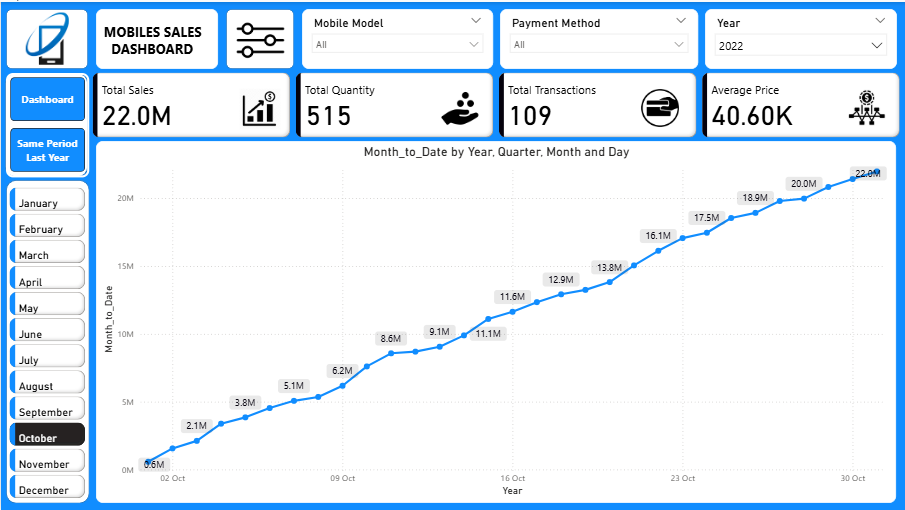

This screenshot's page, from the dashboard's own definition file:
{"tool":"powerbi","page":{"name":"MTD Report","canvas":[1280,720],"ordinal":1},"visuals":[{"type":"shape","box":[7.1,9.9,116.2,85],"z":0},{"type":"shape","box":[5.7,100.6,117.6,147.4],"z":1000},{"type":"shape","box":[6.7,251.7,118.3,458.3],"z":2000},{"type":"advancedSlicerVisual","fields":{"Values":["Custom_calendar_from_2021_2024.Date.Variation.Date Hierarchy.Month"]},"box":[7.1,258.6,117.1,451.4],"z":3000},{"type":"cardVisual","fields":{"Data":["Mobiles_sales_data.Total Sales","Mobiles_sales_data.Total Quantity","Mobiles_sales_data.Total Transactions","Mobiles_sales_data.Average Price"]},"box":[125.4,94.4,1154.9,102.8],"z":4000},{"type":"image","box":[618,116.2,65.2,69.4],"z":5000},{"type":"image","box":[333.1,113.4,68,75.1],"z":6000},{"type":"image","box":[1196.2,100.6,62.4,97.8],"z":7000},{"type":"image","box":[897.2,116.2,73.7,68],"z":8000},{"type":"slicer","fields":{"Values":["Mobiles_sales_data.Mobile Model"]},"box":[426.6,9.9,270.7,85],"z":9000},{"type":"slicer","fields":{"Values":["Mobiles_sales_data.Payment Method"]},"box":[707.2,9.9,280.6,85],"z":10000},{"type":"slicer","fields":{"Values":["Custom_calendar_from_2021_2024.Date.Variation.Date Hierarchy.Year"]},"box":[997.8,9.9,272.1,85],"z":11000},{"type":"textbox","box":[134.6,9.9,172.9,85],"z":12000},{"type":"shape","box":[318.9,9.9,96.4,85],"z":13000},{"type":"image","box":[321.7,17,90.7,70.9],"z":14000},{"type":"image","box":[7.1,9.9,116.2,83.6],"z":15000},{"type":"lineChart","fields":{"Category":["Custom_calendar_from_2021_2024.Date.Variation.Date Hierarchy.Year","Custom_calendar_from_2021_2024.Date.Variation.Date Hierarchy.Quarter","Custom_calendar_from_2021_2024.Date.Variation.Date Hierarchy.Month","Custom_calendar_from_2021_2024.Date.Variation.Date Hierarchy.Day"],"Y":["Mobiles_sales_data.Month_to_Date"]},"box":[135.2,197.2,1133.8,512.7],"z":16000},{"type":"pageNavigator","box":[7,100,118.3,147.9],"z":17000}]}

Visuals, with their boxes in screenshot pixels (x1, y1, x2, y2), scaled from the page's 1280x720 canvas onto the 905x510 screenshot:
shape: (5, 7, 87, 67)
shape: (4, 71, 87, 176)
shape: (5, 178, 88, 503)
advancedSlicerVisual - Custom_calendar_from_2021_2024.Date.Variation.Date Hierarchy.Month: (5, 183, 88, 503)
cardVisual - Mobiles_sales_data.Total Sales x Mobiles_sales_data.Total Quantity: (89, 67, 904, 140)
image: (437, 82, 483, 131)
image: (236, 80, 284, 134)
image: (846, 71, 890, 141)
image: (634, 82, 686, 130)
slicer - Mobiles_sales_data.Mobile Model: (302, 7, 493, 67)
slicer - Mobiles_sales_data.Payment Method: (500, 7, 698, 67)
slicer - Custom_calendar_from_2021_2024.Date.Variation.Date Hierarchy.Year: (705, 7, 898, 67)
textbox: (95, 7, 217, 67)
shape: (225, 7, 294, 67)
image: (227, 12, 292, 62)
image: (5, 7, 87, 66)
lineChart - Custom_calendar_from_2021_2024.Date.Variation.Date Hierarchy.Year x Custom_calendar_from_2021_2024.Date.Variation.Date Hierarchy.Quarter: (96, 140, 897, 503)
pageNavigator: (5, 71, 89, 176)
